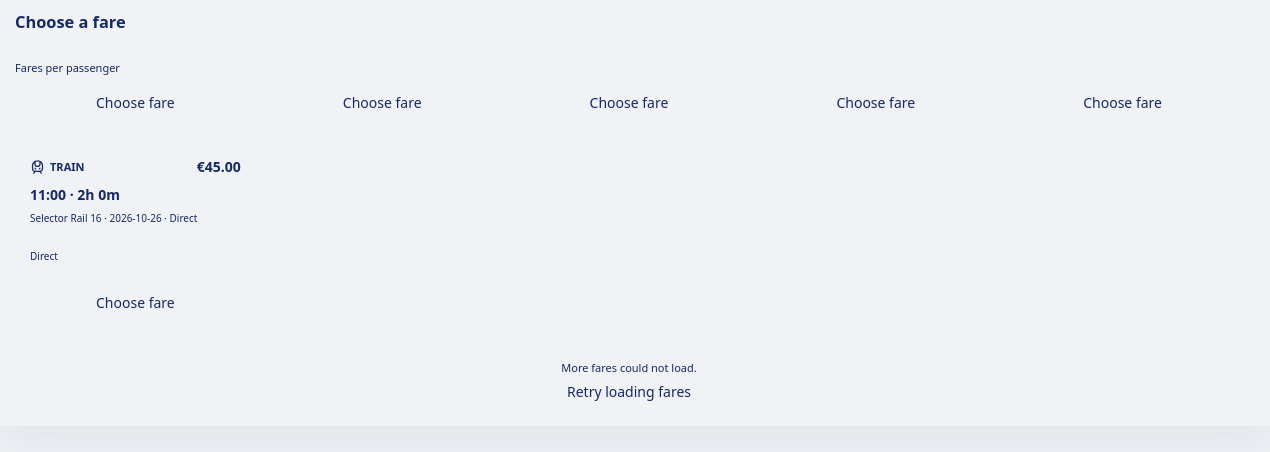
Test case: interactive selector pagination › keeps loaded FareStrip rows and retries a failed progressive page
(page scrolled)
Expected: the text "More fares could not load." is shown, [561,360,697,376]
Click the button "Retry loading fares".
click(629, 392)  # box [557,376,701,408]
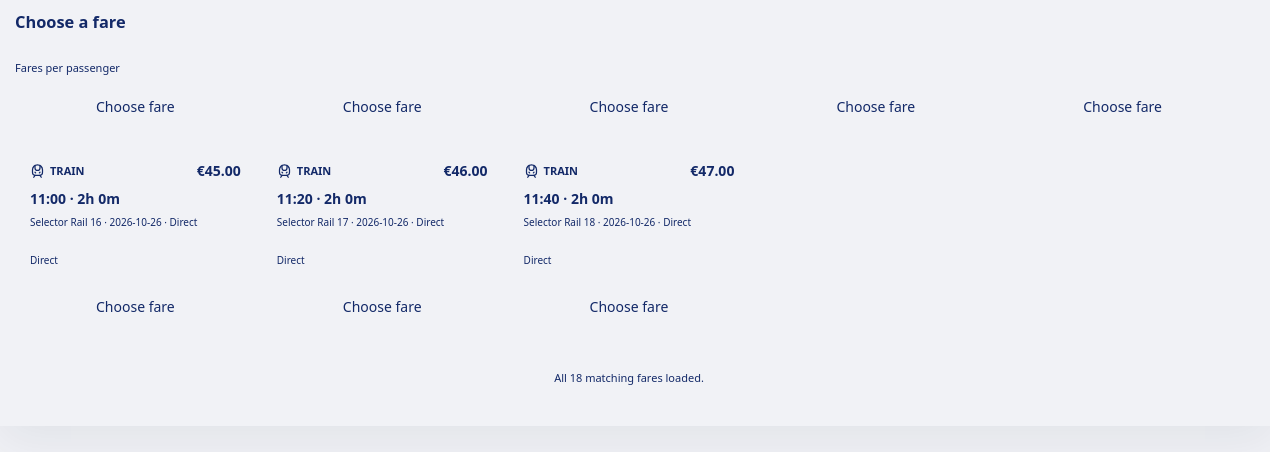
Expected: the button "Retry loading fares" is gone
